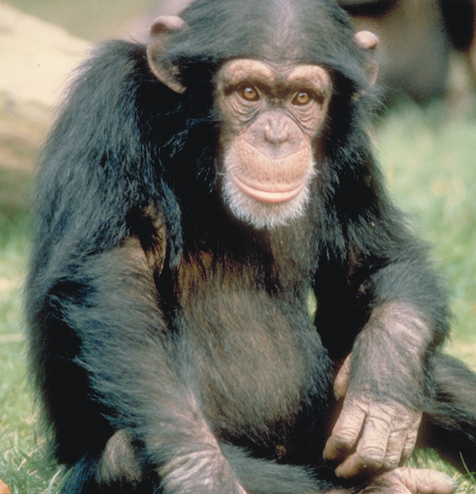Chimpanzee: (36, 3, 440, 491)
